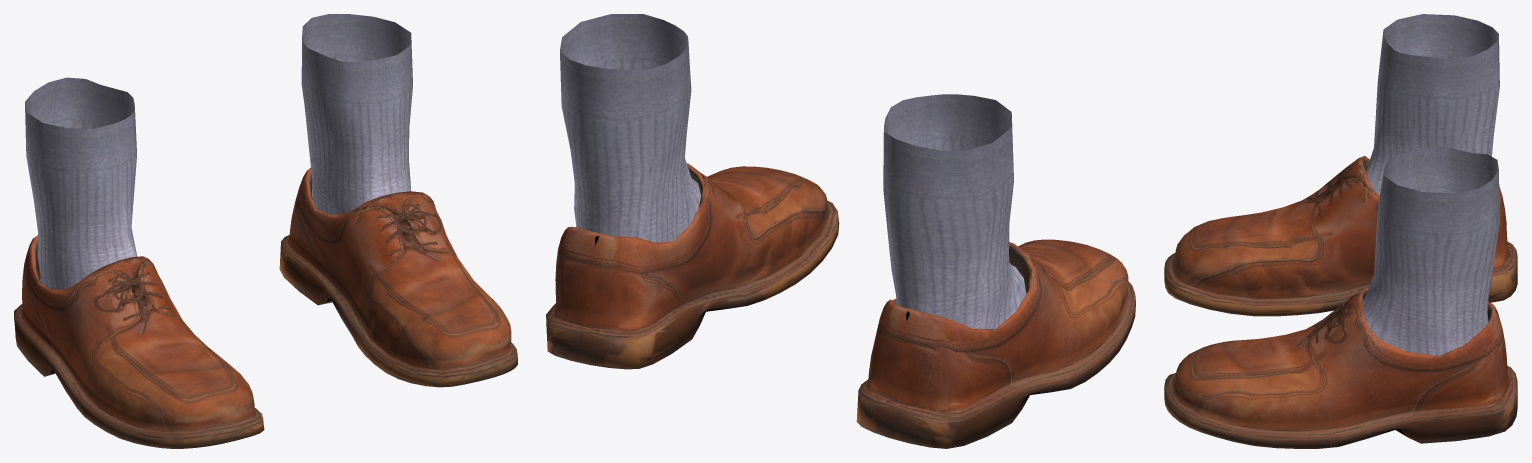
Rendered from shoes_brown_leather.gltf.
3 renders of one model, left to right at view 1: azimuth 30°, elevation 25°; view 2: azimuth 150°, elevation 25°; view 3: azimuth 270°, elevation 25°, orthographic. The views are drawn at different scales.
Visible parts, largest first — view 1: shoes_brown_leather; view 2: shoes_brown_leather; view 3: shoes_brown_leather.
Boxes of the visible parts, left/top/right/bottom form: shoes_brown_leather: left=14, top=14, right=517, bottom=448; shoes_brown_leather: left=546, top=14, right=1135, bottom=448; shoes_brown_leather: left=1164, top=14, right=1517, bottom=448.
Bounding box in the file's own units: 0.3485 × 0.218 × 0.275.
1 material, 1 textured.
